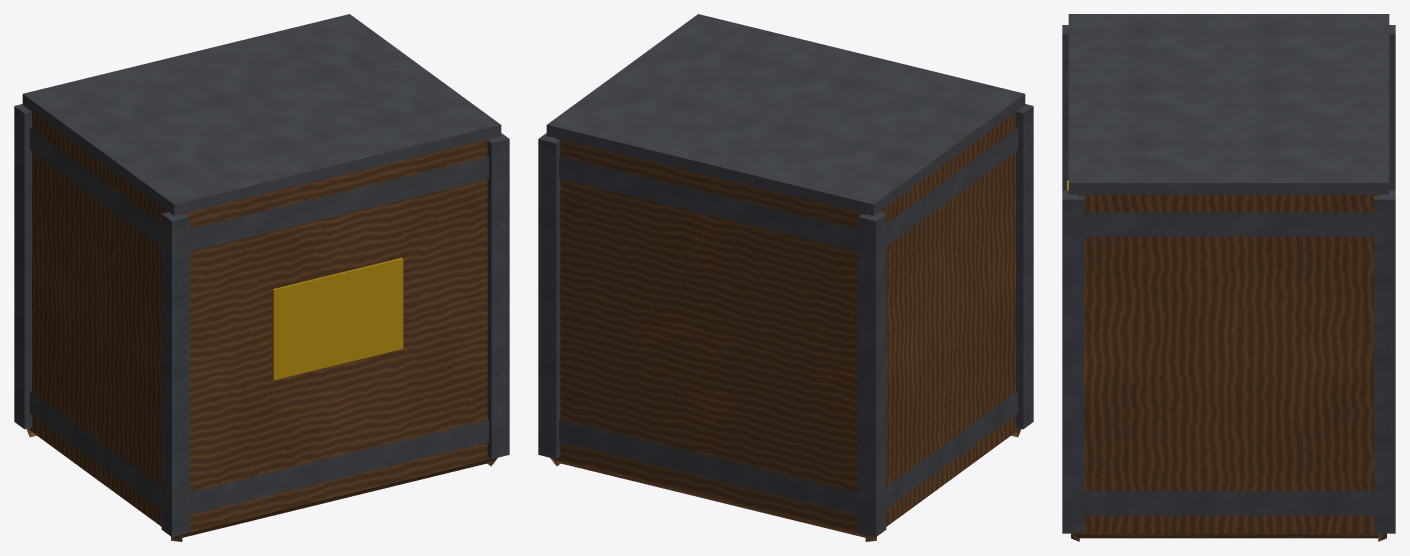
Rendered from crate.obj.
The picture shows the model from 3 angles, left to right: view 1: azimuth 30°, elevation 25°; view 2: azimuth 150°, elevation 25°; view 3: azimuth 270°, elevation 25°; orthographic projection. The views are drawn at different scales.
Parts seen in each view (by area): view 1: crate; view 2: crate; view 3: crate.
Part boxes in pixels (bbox=[...]): crate: bbox=[14, 14, 509, 541]; crate: bbox=[538, 14, 1033, 541]; crate: bbox=[1062, 14, 1395, 541].
Size of the model in its own units: 0.94 by 0.905 by 0.76.
